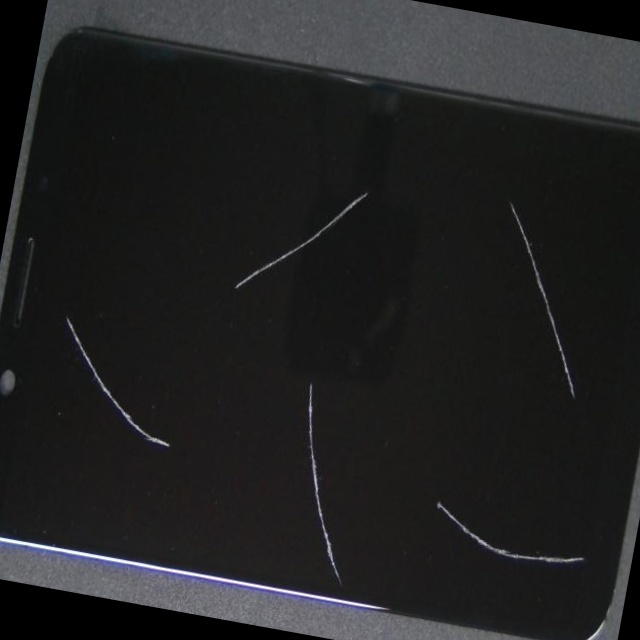scratch: (165, 295, 579, 640), (286, 242, 640, 640), (39, 223, 313, 624), (244, 9, 516, 347), (347, 279, 640, 484)
